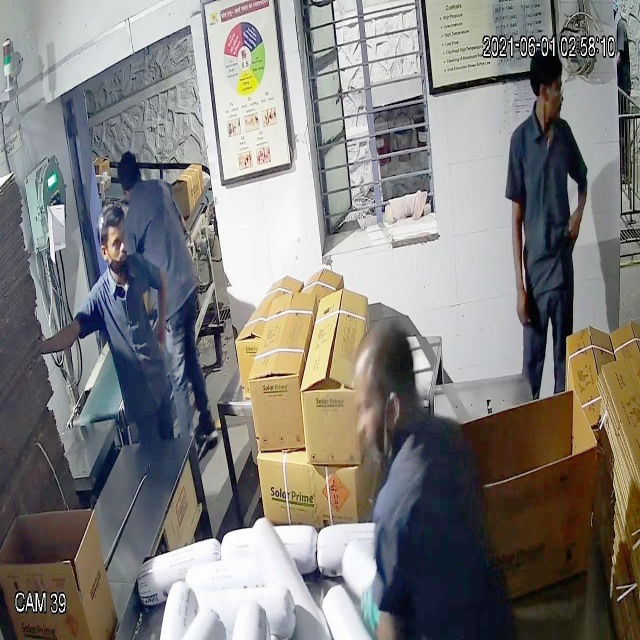Sin_gafas: (96, 227, 134, 260)
